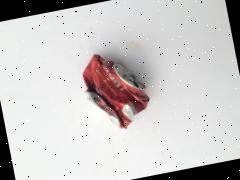metal: (49, 23, 198, 174)
